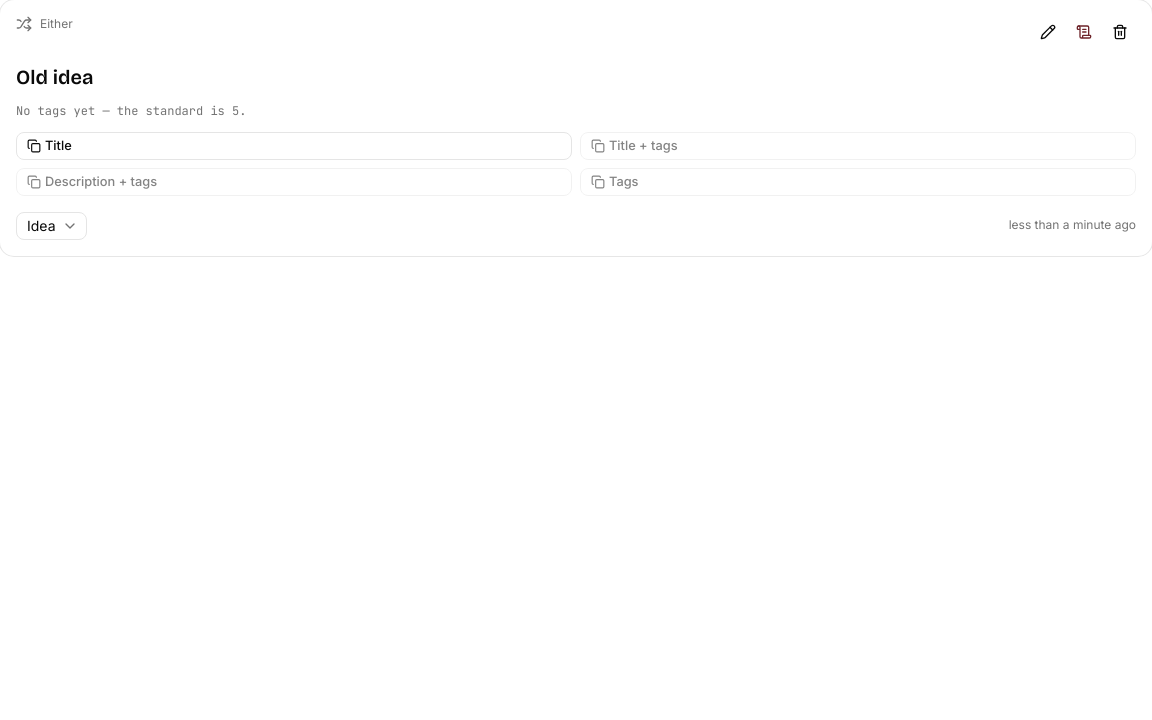
Test: IdeaCard › warns that the script is deleted too when the idea has one
Click the button named "Delete \"Old idea\"" at (1120, 32), box [1104,16,1136,48]
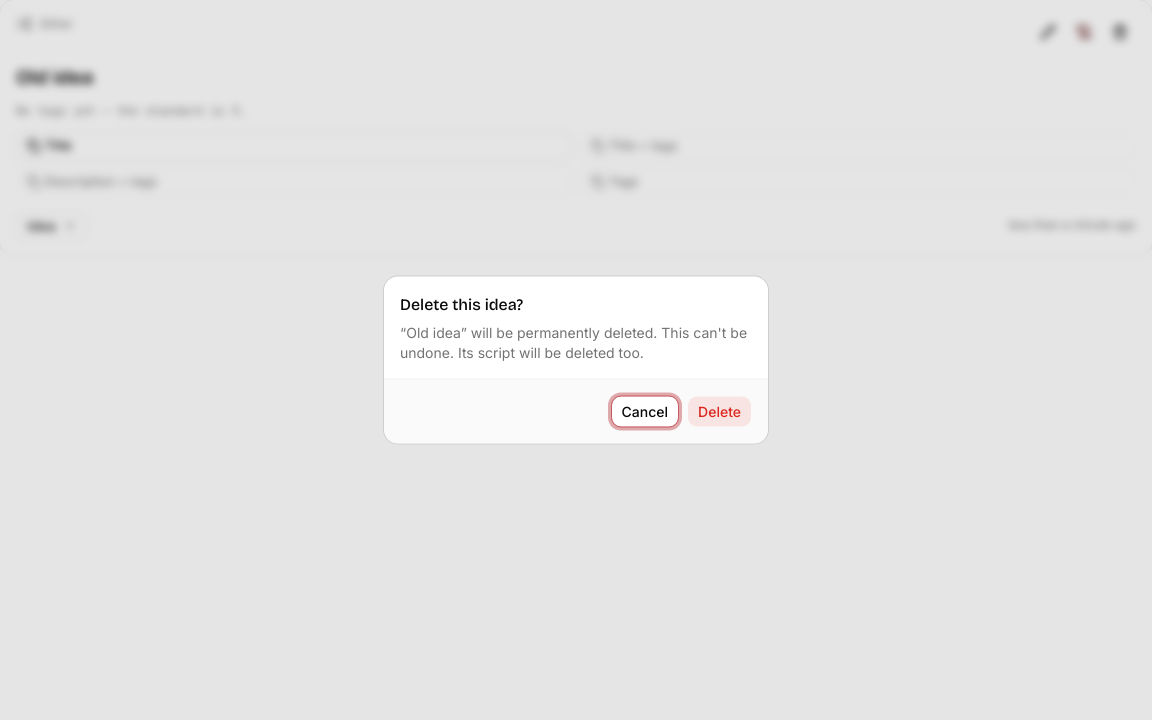
Expected: the text "Its script will be deleted too." is shown, [454,344,644,360]
